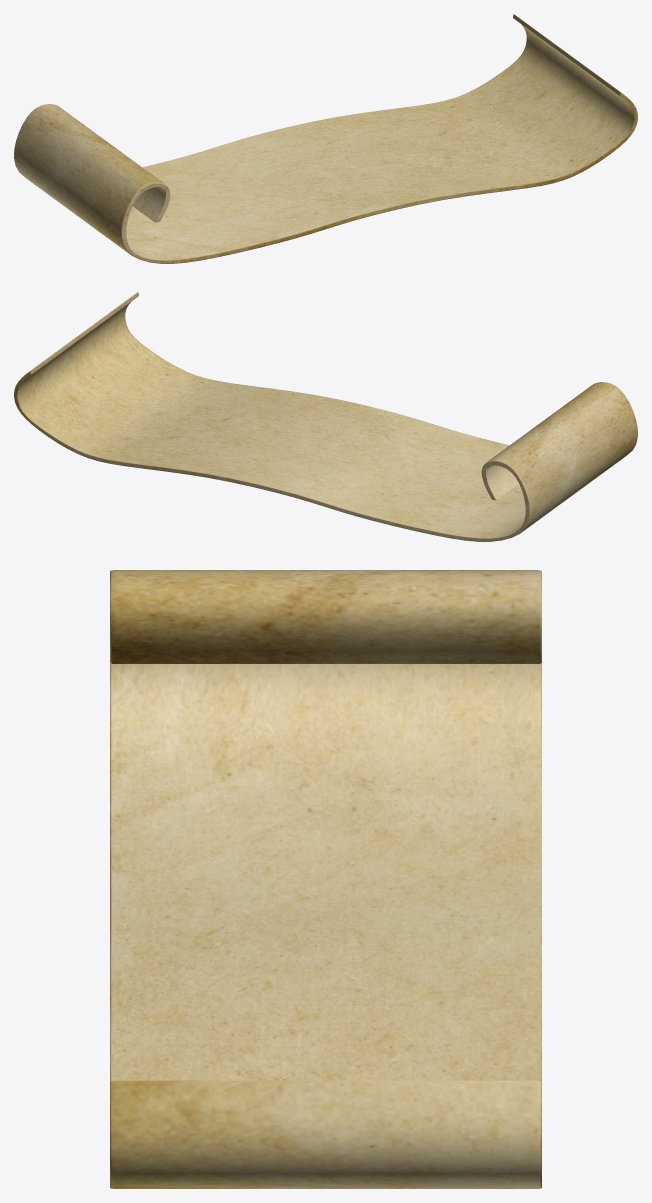
The model's file is paper_001.fbx.
3 renders of one model, top to bottom at view 1: azimuth 30°, elevation 25°; view 2: azimuth 150°, elevation 25°; view 3: azimuth 270°, elevation 25°, orthographic. The views are drawn at different scales.
Visible parts, largest first — view 1: pCube1; view 2: pCube1; view 3: pCube1.
Boxes of the visible parts, bbox=[...] form: pCube1: bbox=[14, 14, 637, 263]; pCube1: bbox=[14, 292, 637, 541]; pCube1: bbox=[110, 570, 541, 1188].
Bounding box in the file's own units: 2.76 × 0.5026 × 1.
Materials: 1 (1 with a texture image).
